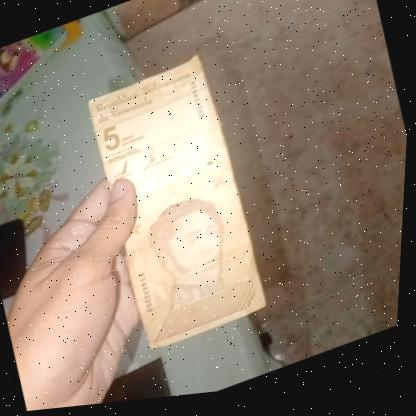five-front-vef: (76, 50, 281, 365)
